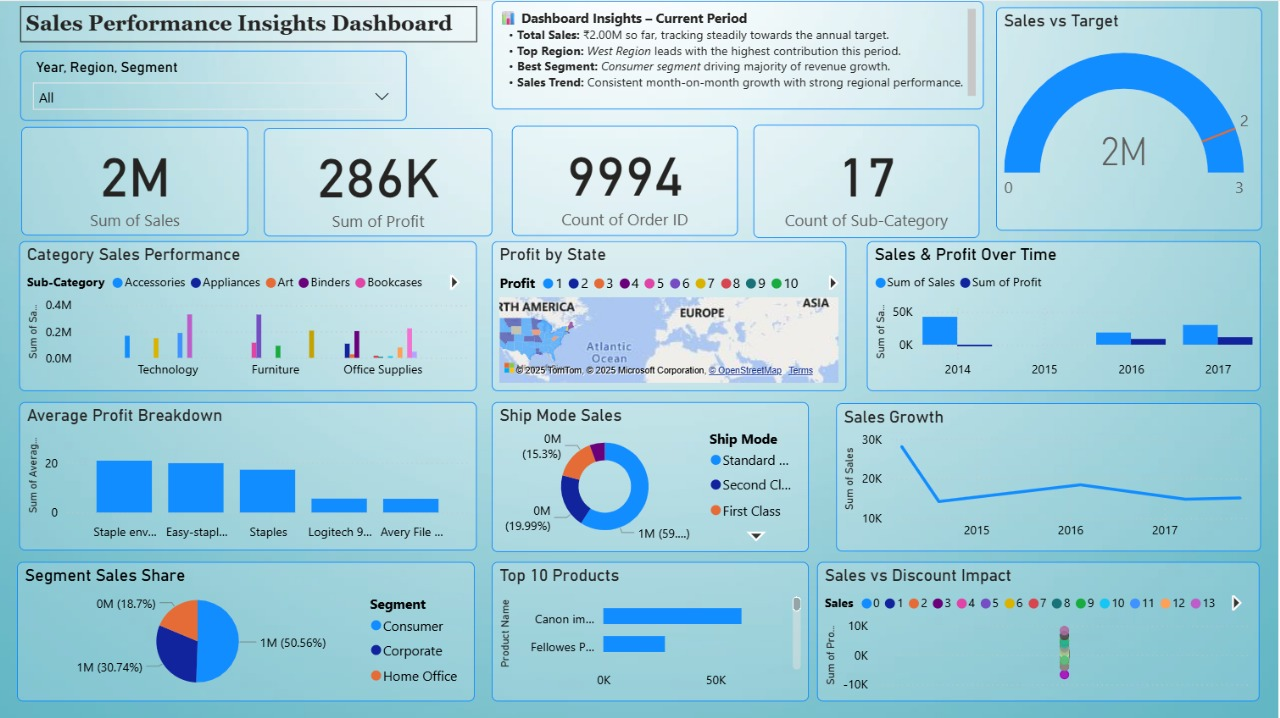

The dashboard page shown, as its layout file describes it:
{"tool":"powerbi","page":{"name":"Page 1","canvas":[1280,720],"ordinal":0},"visuals":[{"type":"textbox","box":[20,5,457.5,36.2],"z":0},{"type":"lineClusteredColumnComboChart","title":"\tSales & Profit Over Time","fields":{"Y":["Sum(Sample - Superstore.Sales)","Sum(Sample - Superstore.Profit)"],"Category":["Sample - Superstore.Order Date.Variation.Date Hierarchy.Year"]},"box":[868.6,241.4,394.3,150],"z":1000},{"type":"clusteredColumnChart","title":"Category Sales Performance ","fields":{"Category":["Sample - Superstore.Category"],"Series":["Sample - Superstore.Sub-Category"],"Y":["Sum(Sample - Superstore.Sales)"]},"box":[18.8,241.2,458.8,150],"z":2000},{"type":"columnChart","title":"\tAverage Profit Breakdown ","fields":{"Category":["Sample - Superstore.Product Name"],"Y":["Sum(Sample - Superstore.Average Profit Margin)"]},"box":[18.8,402.5,458.8,148.8],"z":3000},{"type":"filledMap","title":"Profit by State","fields":{"Category":["Sample - Superstore.State"],"Series":["Sample - Superstore.Profit"]},"box":[492.5,241.2,355,150],"z":4000},{"type":"donutChart","title":"Ship Mode Sales ","fields":{"Category":["Sample - Superstore.Ship Mode"],"Y":["Sum(Sample - Superstore.Sales)"]},"box":[492.5,402.5,317.5,150],"z":5000},{"type":"barChart","title":"Top 10 Products ","fields":{"Category":["Sample - Superstore.Product Name"],"Y":["Sum(Sample - Superstore.Sales)"]},"box":[492.5,562.5,317.5,140],"z":6000},{"type":"scatterChart","title":"\tSales vs Discount Impact ","fields":{"Category":["Sample - Superstore.Discount"],"Y":["Sum(Sample - Superstore.Profit)"],"Series":["Sample - Superstore.Sales"]},"box":[818.6,562.9,442.9,140],"z":7000},{"type":"pieChart","title":"Segment Sales Share","fields":{"Category":["Sample - Superstore.Segment"],"Y":["Sum(Sample - Superstore.Sales)"]},"box":[17.5,562.5,458.8,140],"z":8000},{"type":"lineChart","title":"Sales Growth ","fields":{"Category":["Sample - Superstore.Order Date"],"Y":["Sum(Sample - Superstore.Sales)"]},"box":[837.1,402.9,425.7,148.6],"z":9000},{"type":"slicer","fields":{"Values":["Sample - Superstore.Order Date.Variation.Date Hierarchy.Year","Sample - Superstore.Region","Sample - Superstore.Segment"]},"box":[20,50,387.5,70],"z":10000},{"type":"card","fields":{"Values":["Sum(Sample - Superstore.Sales)"]},"box":[21.2,126.2,227.5,108.8],"z":11000},{"type":"gauge","title":"Sales vs Target ","fields":{"Y":["Sum(Sample - Superstore.Sales)"]},"box":[997.5,6.2,266.2,223.8],"z":12000},{"type":"textbox","box":[492.5,0,492.5,108.8],"z":13000},{"type":"card","fields":{"Values":["Sum(Sample - Superstore.Profit)"]},"box":[263.8,127.5,228.8,108.8],"z":14000},{"type":"card","fields":{"Values":["CountNonNull(Sample - Superstore.Order ID)"]},"box":[512.5,125,226.2,110],"z":15000},{"type":"card","fields":{"Values":["Count(Sample - Superstore.Sub-Category)"]},"box":[755,123.8,226.2,113.8],"z":16000}]}

Visuals, with their boxes in screenshot pixels (x1, y1, x2, y2), scaled from the page's 1280x720 canvas onto the 1280x718 screenshot:
textbox: [20,5,478,41]
"	Sales & Profit Over Time" lineClusteredColumnComboChart: [869,241,1263,390]
"Category Sales Performance " clusteredColumnChart: [19,241,478,390]
"	Average Profit Breakdown " columnChart: [19,401,478,550]
"Profit by State" filledMap: [492,241,848,390]
"Ship Mode Sales " donutChart: [492,401,810,551]
"Top 10 Products " barChart: [492,561,810,701]
"	Sales vs Discount Impact " scatterChart: [819,561,1262,701]
"Segment Sales Share" pieChart: [18,561,476,701]
"Sales Growth " lineChart: [837,402,1263,550]
slicer - Sample - Superstore.Order Date.Variation.Date Hierarchy.Year x Sample - Superstore.Region: [20,50,408,120]
card - Sum(Sample - Superstore.Sales): [21,126,249,234]
"Sales vs Target " gauge: [998,6,1264,229]
textbox: [492,0,985,108]
card - Sum(Sample - Superstore.Profit): [264,127,493,236]
card - CountNonNull(Sample - Superstore.Order ID): [512,125,739,234]
card - Count(Sample - Superstore.Sub-Category): [755,123,981,237]
